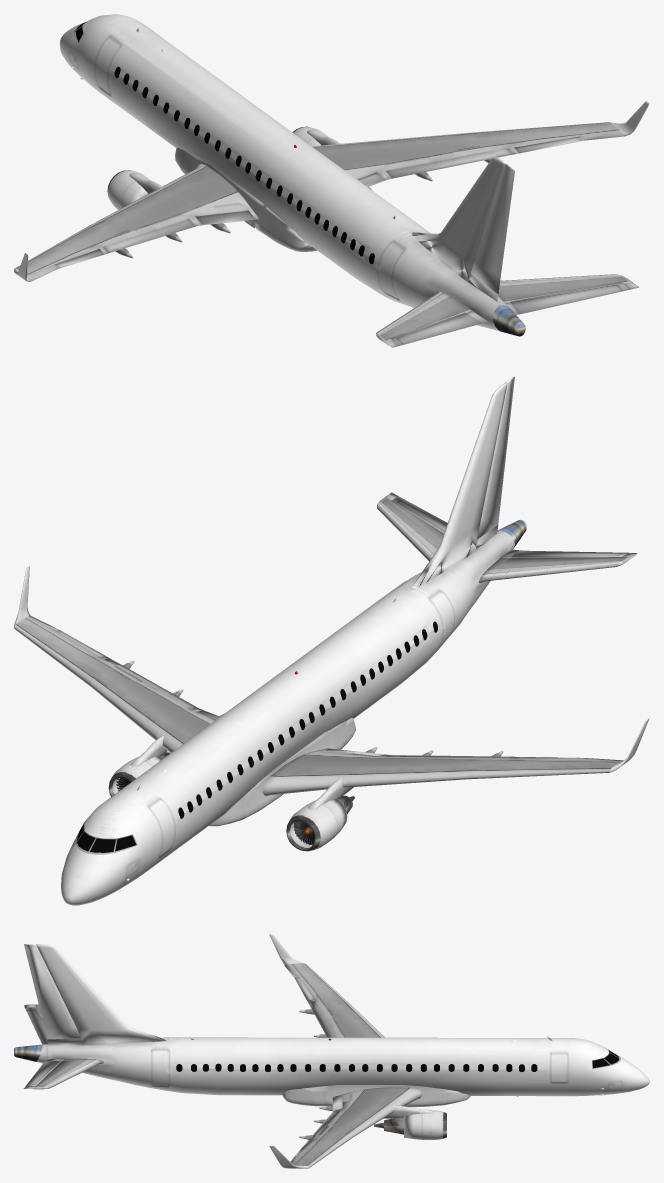
3 views of the same model, one above another, from view 1: azimuth 30°, elevation 25°; view 2: azimuth 150°, elevation 25°; view 3: azimuth 270°, elevation 25° (orthographic). The views are drawn at different scales.
Visible parts, largest first — view 1: geardoor_b_r, hstab, geardoor_f_r, cylinder; view 2: geardoor_b_r, hstab, geardoor_f_r, cylinder; view 3: geardoor_b_r, hstab, geardoor_f_r, cylinder.
Boxes of the visible parts, x1,y1,x2,y2 form: geardoor_b_r: (14, 14, 649, 331); hstab: (15, 23, 638, 347); geardoor_f_r: (107, 126, 514, 301); cylinder: (75, 22, 374, 264); geardoor_b_r: (14, 530, 649, 905); hstab: (14, 492, 636, 854); geardoor_f_r: (108, 376, 514, 851); cylinder: (76, 621, 437, 852); geardoor_b_r: (36, 934, 649, 1168); hstab: (14, 963, 620, 1167); geardoor_f_r: (24, 944, 446, 1139); cylinder: (176, 1049, 618, 1071).
Size of the model in its own units: 28.2 by 10.22 by 35.83.
8 materials, 5 textured.
